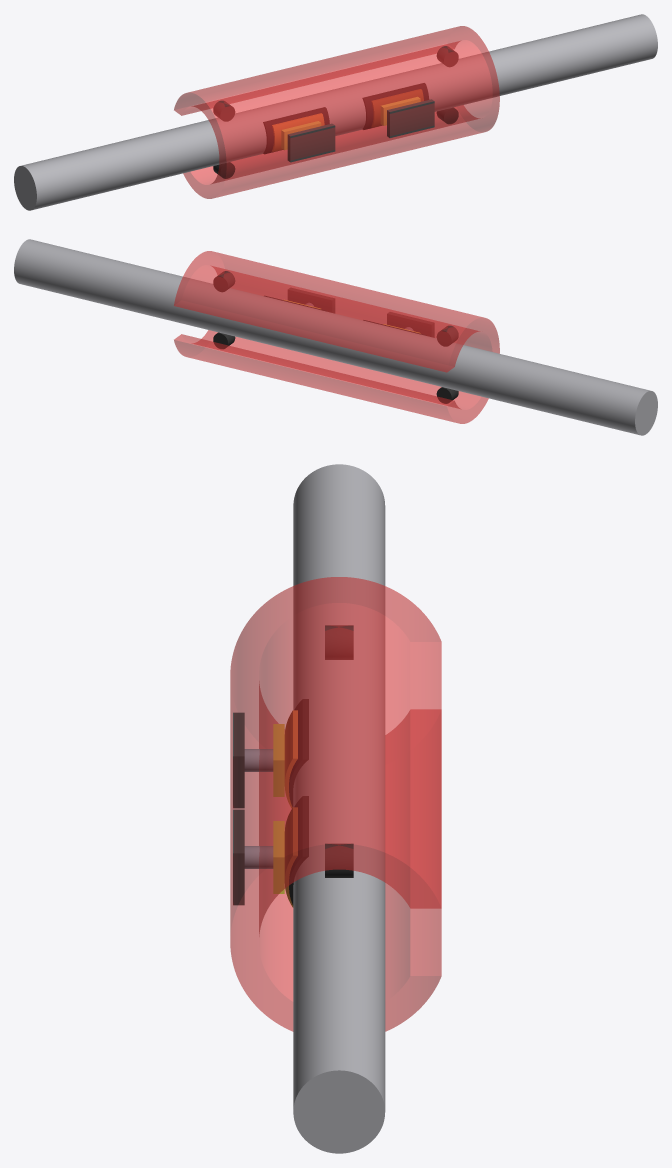
The model's file is charging-dock-v1.glb.
3 renders of one model, top to bottom at view 1: azimuth 30°, elevation 25°; view 2: azimuth 150°, elevation 25°; view 3: azimuth 270°, elevation 25°, orthographic. The views are drawn at different scales.
Visible parts, largest first — view 1: cart_hand_simplified, track_bottom_run, pad_holder_plus, pad_holder_minus, plate_plus_insulator, plate_minus_insulator, plate_minus, plate_plus, wheel_-90_22.0, wheel_90_22.0, brush_pad_plus, brush_pad_minus; view 2: track_bottom_run, cart_hand_simplified, pad_holder_plus, pad_holder_minus, wheel_-90_22.0, wheel_90_22.0; view 3: cart_hand_simplified, track_bottom_run, pad_holder_plus, pad_holder_minus, wheel_-90_22.0, wheel_90_22.0.
Boxes of the visible parts, box(x1,y1,x2,y2) form: cart_hand_simplified: box(174, 26, 499, 198); track_bottom_run: box(14, 14, 657, 210); pad_holder_plus: box(287, 123, 335, 162); pad_holder_minus: box(387, 99, 434, 137); plate_plus_insulator: box(263, 107, 329, 153); plate_minus_insulator: box(362, 83, 428, 129); plate_minus: box(371, 89, 423, 127); plate_plus: box(272, 113, 324, 151); wheel_-90_22.0: box(213, 100, 234, 121); wheel_90_22.0: box(437, 46, 458, 66); brush_pad_plus: box(281, 121, 320, 149); brush_pad_minus: box(381, 97, 420, 125); track_bottom_run: box(14, 239, 657, 435); cart_hand_simplified: box(174, 251, 499, 423); pad_holder_plus: box(387, 312, 434, 337); pad_holder_minus: box(288, 288, 334, 313); wheel_-90_22.0: box(437, 325, 458, 346); wheel_90_22.0: box(213, 271, 234, 291); cart_hand_simplified: box(230, 577, 441, 1031); track_bottom_run: box(293, 464, 385, 1153); pad_holder_plus: box(233, 712, 244, 808); pad_holder_minus: box(233, 809, 244, 905); wheel_-90_22.0: box(325, 625, 353, 659); wheel_90_22.0: box(325, 843, 353, 877).
Size of the model in its own units: 500 by 75.98 by 73.71.
